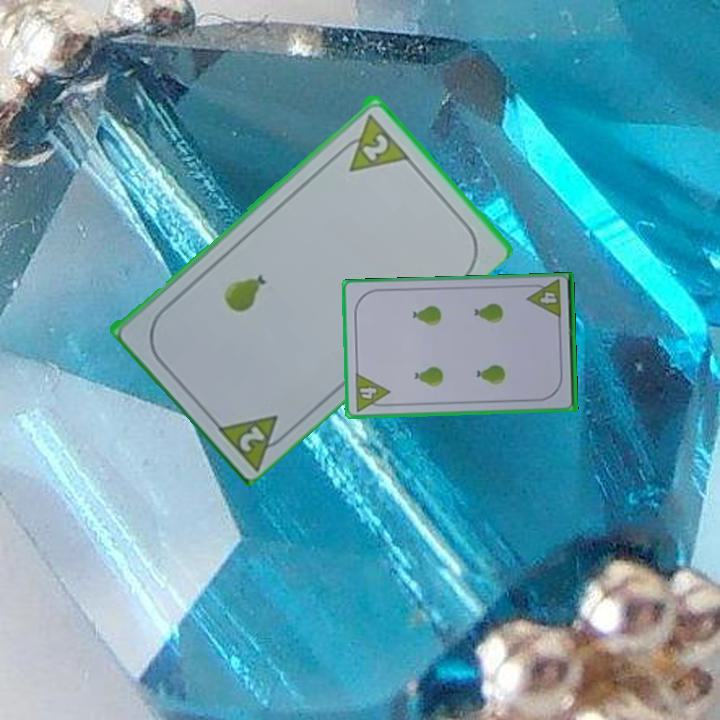2p: (211, 410, 295, 472), (358, 129, 392, 164)
4p: (351, 370, 393, 414), (524, 277, 564, 322)
